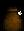pot: (0, 1, 24, 31)
